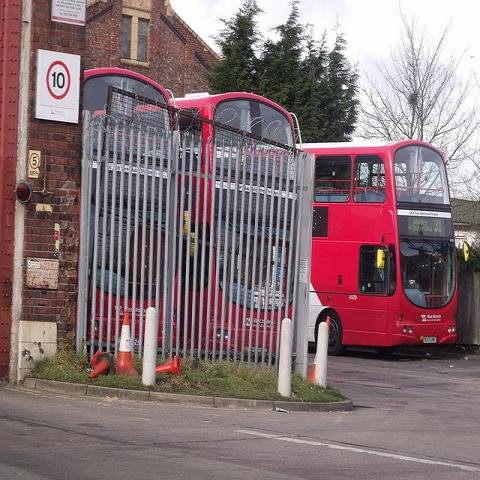bus: (300, 140, 470, 357), (174, 92, 312, 358), (78, 111, 176, 358), (81, 61, 174, 122)
